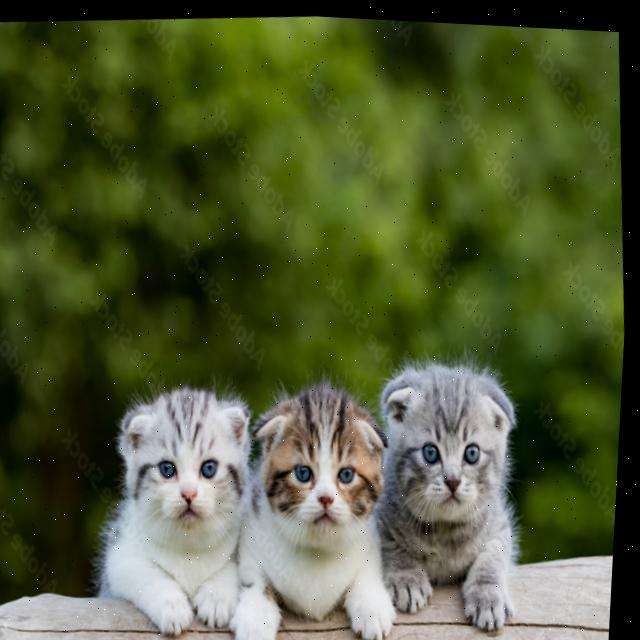Scottish Fold: (227, 363, 414, 640), (367, 345, 540, 639), (91, 371, 274, 640)
